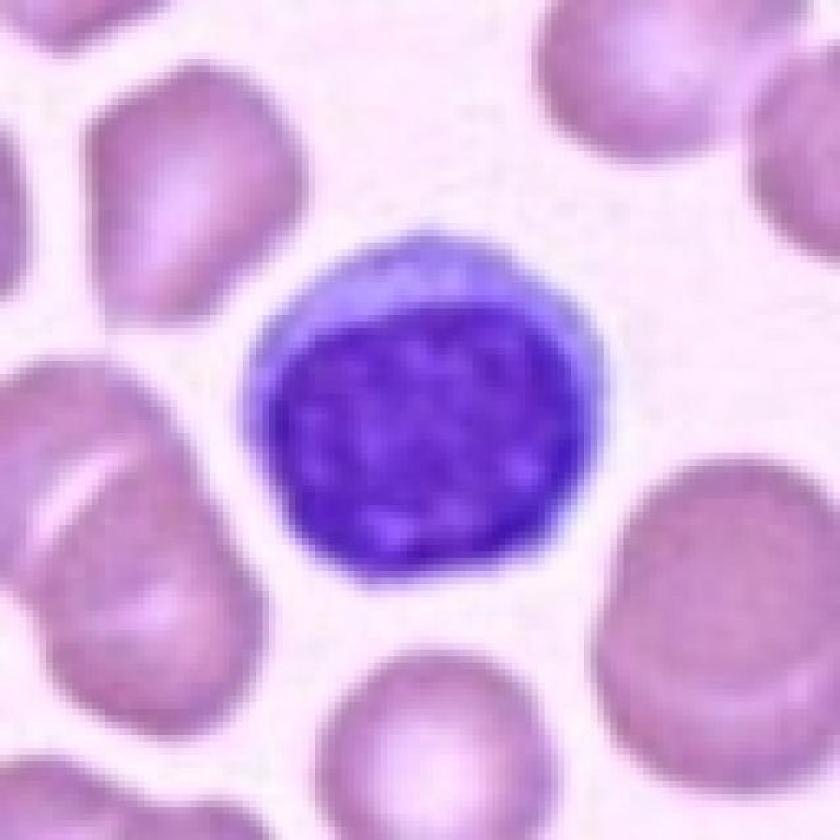lymphocyte: (233, 214, 630, 593)
